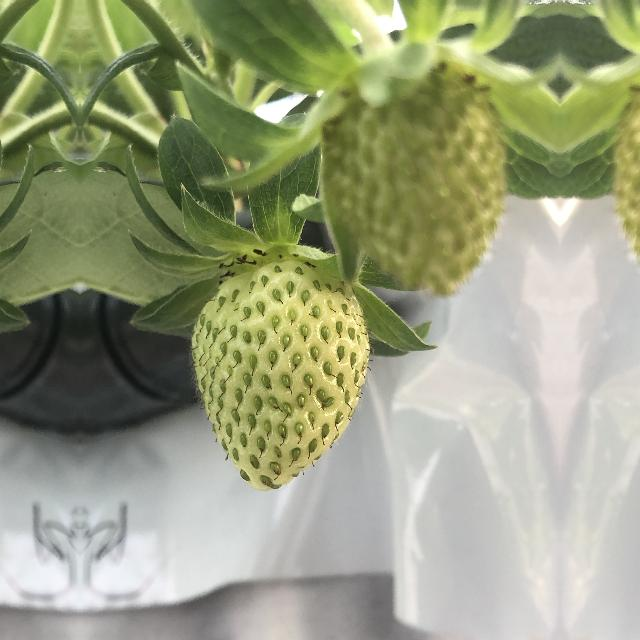Health_25: (181, 246, 379, 497)
